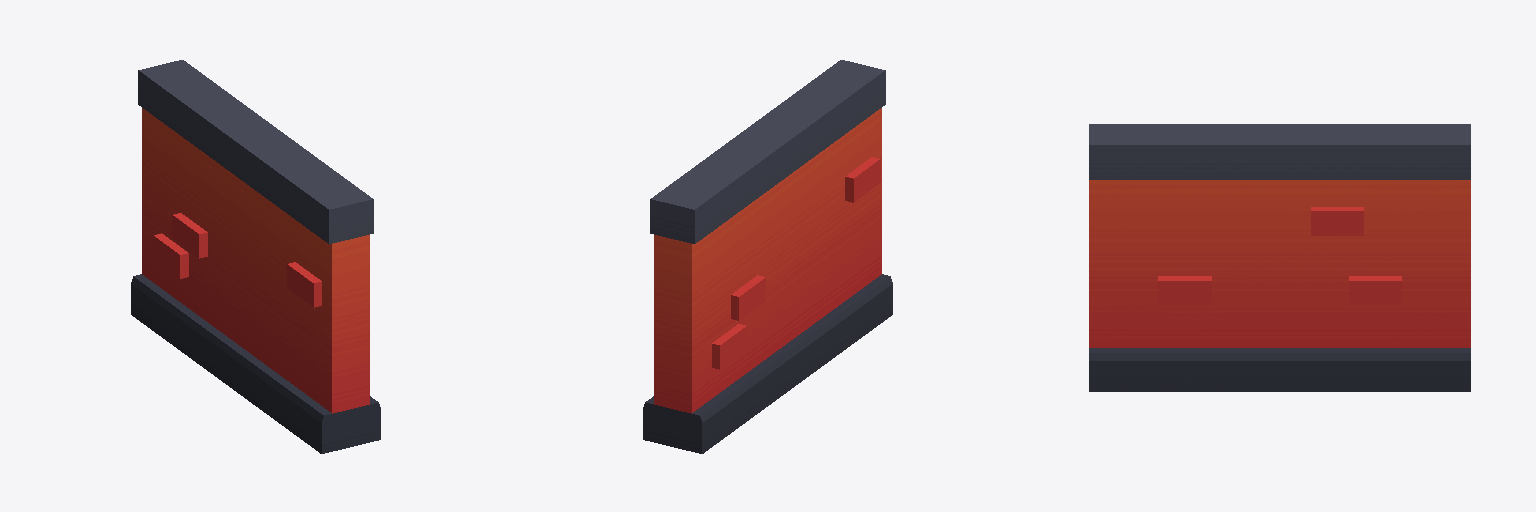
3 views of the same model, side by side, from view 1: azimuth 30°, elevation 25°; view 2: azimuth 150°, elevation 25°; view 3: azimuth 270°, elevation 25° (orthographic).
Parts seen in each view (by area): view 1: brick-wall.004; view 2: brick-wall.004; view 3: brick-wall.004.
Part boxes in pixels (x1,y1,x2,y2): brick-wall.004: (131, 60, 380, 453); brick-wall.004: (643, 60, 892, 453); brick-wall.004: (1089, 124, 1470, 391).
Bounding box in the file's own units: 0.441 × 1.72 × 2.45.
1 materials, 1 textured.